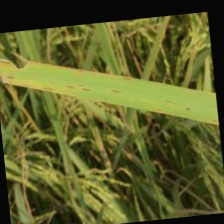Bacterial_Leaf_Blight: (65, 78, 93, 93), (38, 82, 56, 93), (1, 72, 15, 82), (107, 88, 123, 95), (182, 104, 193, 113), (208, 117, 219, 126), (153, 106, 165, 114), (123, 74, 134, 82)
